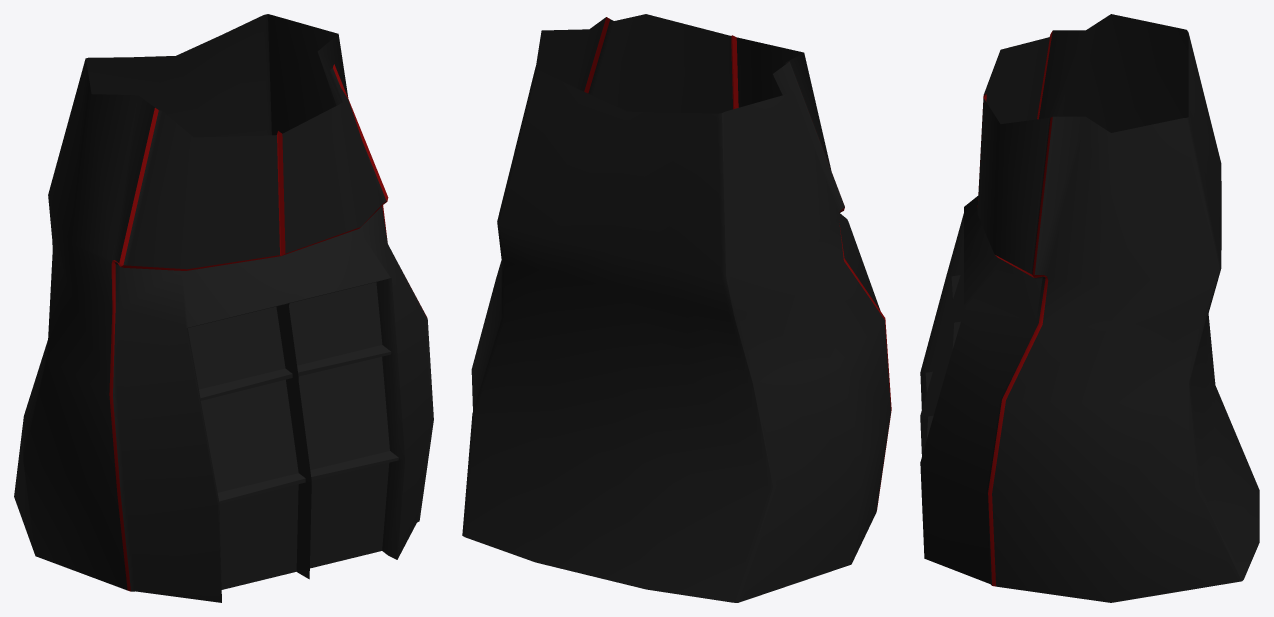
Rendered from Armor_ASS.fbx.
The picture shows the model from 3 angles, left to right: view 1: azimuth 30°, elevation 25°; view 2: azimuth 150°, elevation 25°; view 3: azimuth 270°, elevation 25°; orthographic projection. The views are drawn at different scales.
Visible parts, largest first — view 1: pCube3; view 2: pCube3; view 3: pCube3.
Part boxes in pixels (left/top/right/bottom): pCube3: left=14, top=14, right=433, bottom=602; pCube3: left=462, top=14, right=891, bottom=602; pCube3: left=920, top=14, right=1259, bottom=602.
Bounding box in the file's own units: 28.88 × 32.23 × 22.38.
